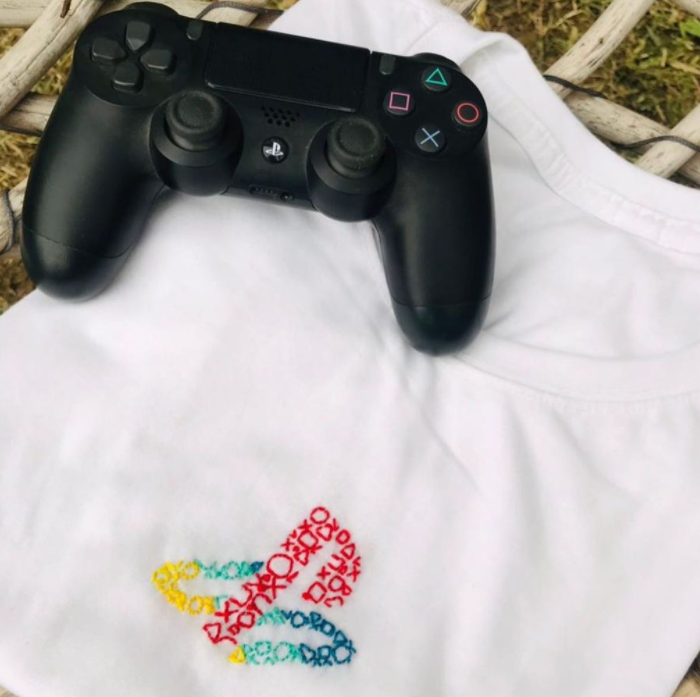gamingconsole: (26, 2, 498, 357)
